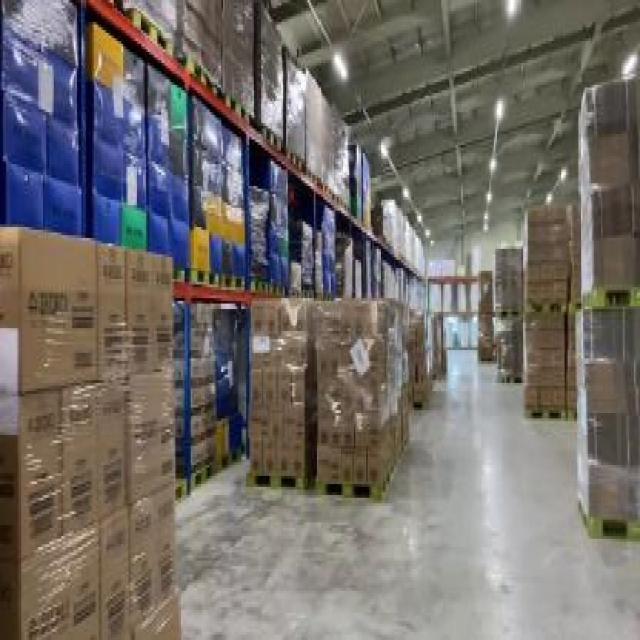box: (0, 221, 178, 637), (570, 71, 638, 544), (2, 0, 89, 257), (318, 290, 412, 498), (89, 19, 151, 274), (249, 293, 317, 495), (523, 200, 580, 421), (192, 96, 250, 284), (283, 52, 354, 202), (145, 60, 192, 285), (490, 244, 524, 380), (220, 2, 255, 128), (259, 3, 286, 145), (380, 192, 426, 274), (183, 0, 222, 93), (266, 156, 292, 287), (406, 304, 434, 410), (290, 213, 324, 290), (246, 183, 271, 284), (351, 139, 374, 230), (316, 200, 338, 292), (335, 230, 363, 298), (477, 268, 498, 358), (431, 306, 451, 378), (358, 233, 380, 298), (426, 254, 454, 274)
